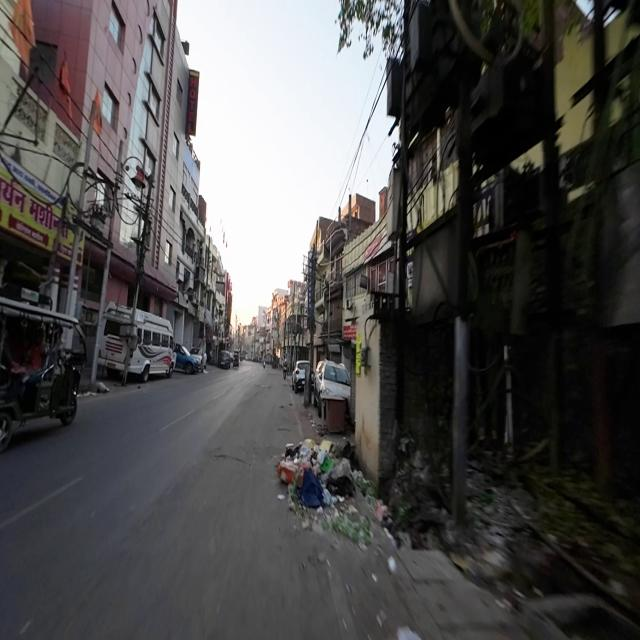Garbage: (277, 441, 353, 508), (313, 509, 375, 548)
